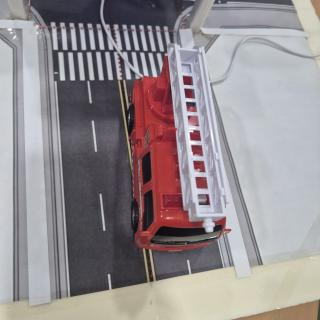Fire_truck: (127, 43, 231, 251)
